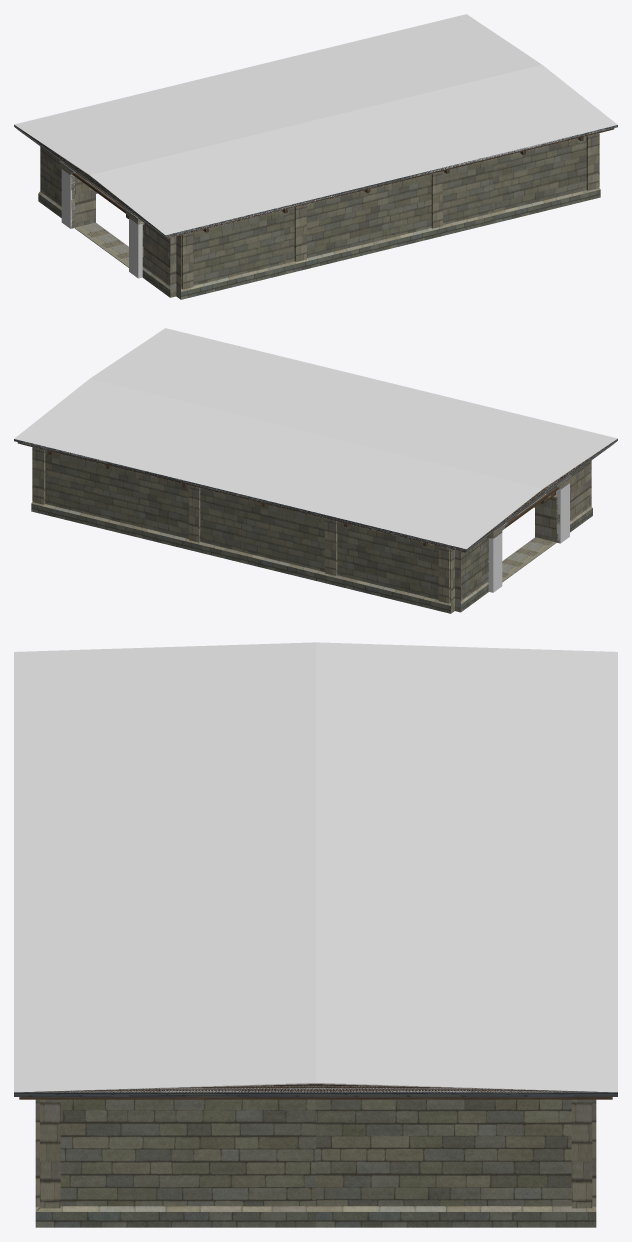
Rendered from record_room.glb.
3 renders of one model, top to bottom at view 1: azimuth 30°, elevation 25°; view 2: azimuth 150°, elevation 25°; view 3: azimuth 270°, elevation 25°, orthographic. The views are drawn at different scales.
Visible parts, largest first — view 1: RECORD_ROOM_CAST, RECORD_ROOM_HERO; view 2: RECORD_ROOM_CAST, RECORD_ROOM_HERO; view 3: RECORD_ROOM_CAST, RECORD_ROOM_HERO.
Part boxes in pixels (left/top/right/bottom): RECORD_ROOM_CAST: left=14, top=14, right=617, bottom=278; RECORD_ROOM_HERO: left=14, top=125, right=617, bottom=299; RECORD_ROOM_CAST: left=14, top=328, right=617, bottom=592; RECORD_ROOM_HERO: left=14, top=439, right=617, bottom=613; RECORD_ROOM_CAST: left=14, top=642, right=617, bottom=1092; RECORD_ROOM_HERO: left=14, top=1084, right=617, bottom=1227.
Bounding box in the file's own units: 30.2 × 5 × 17.5.
Materials: 3 (2 with a texture image).
